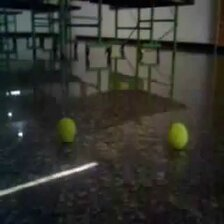tennis: (168, 122, 189, 150), (57, 117, 78, 144)
